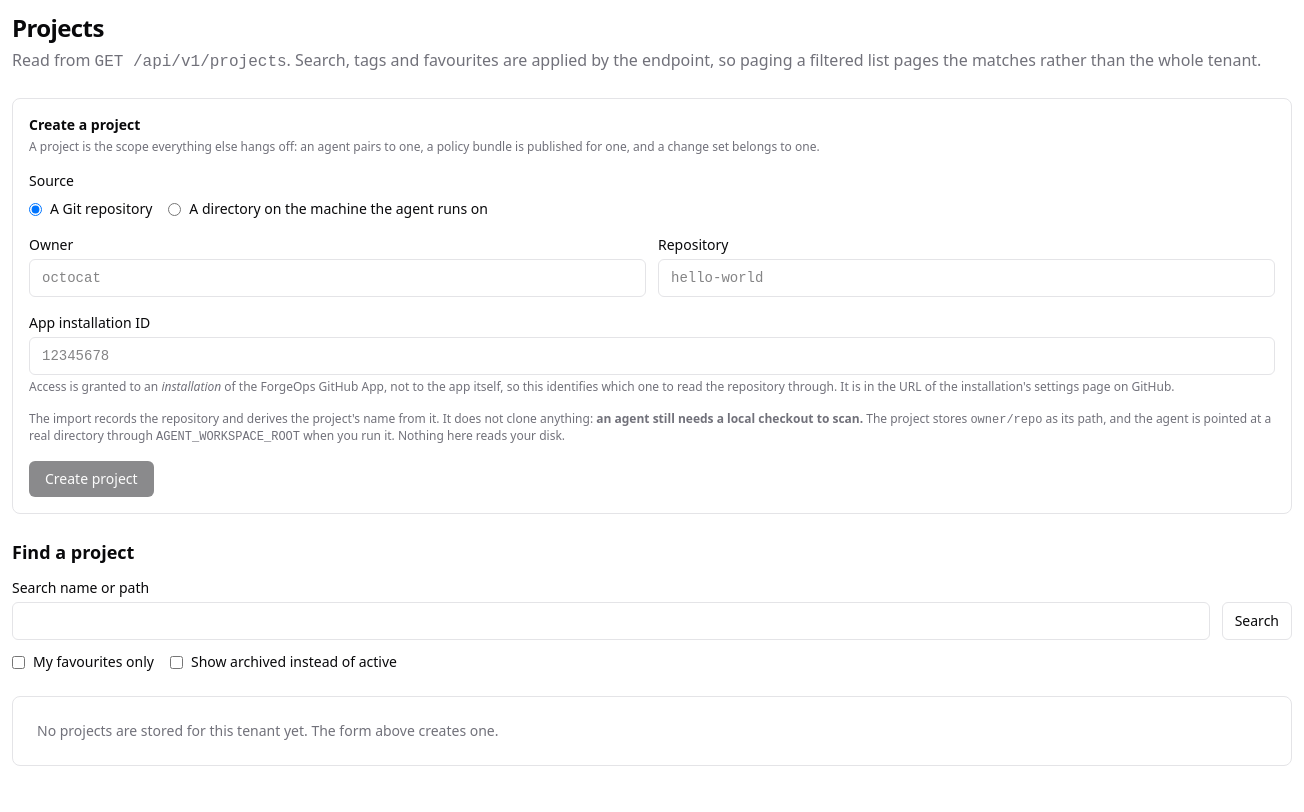
Test case: creating a project › renders a refusal from the server rather than claiming success
The width and height of the screenshot is (1304, 812).
Click the radio button labelled "A directory on the machine the agent runs on" at (175, 209), box [168,202,181,216]
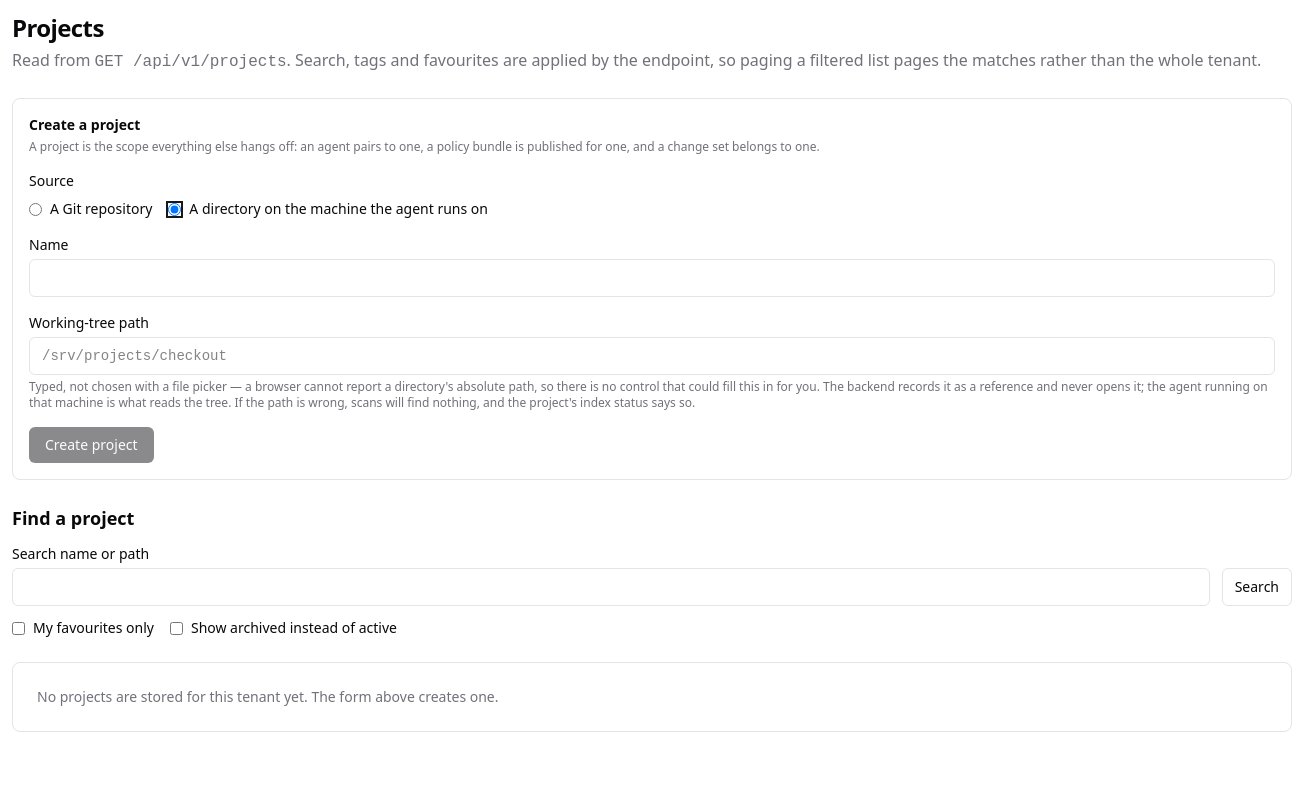
Type "X" into the field labelled "Name" at (652, 278), box [29,259,1275,297]
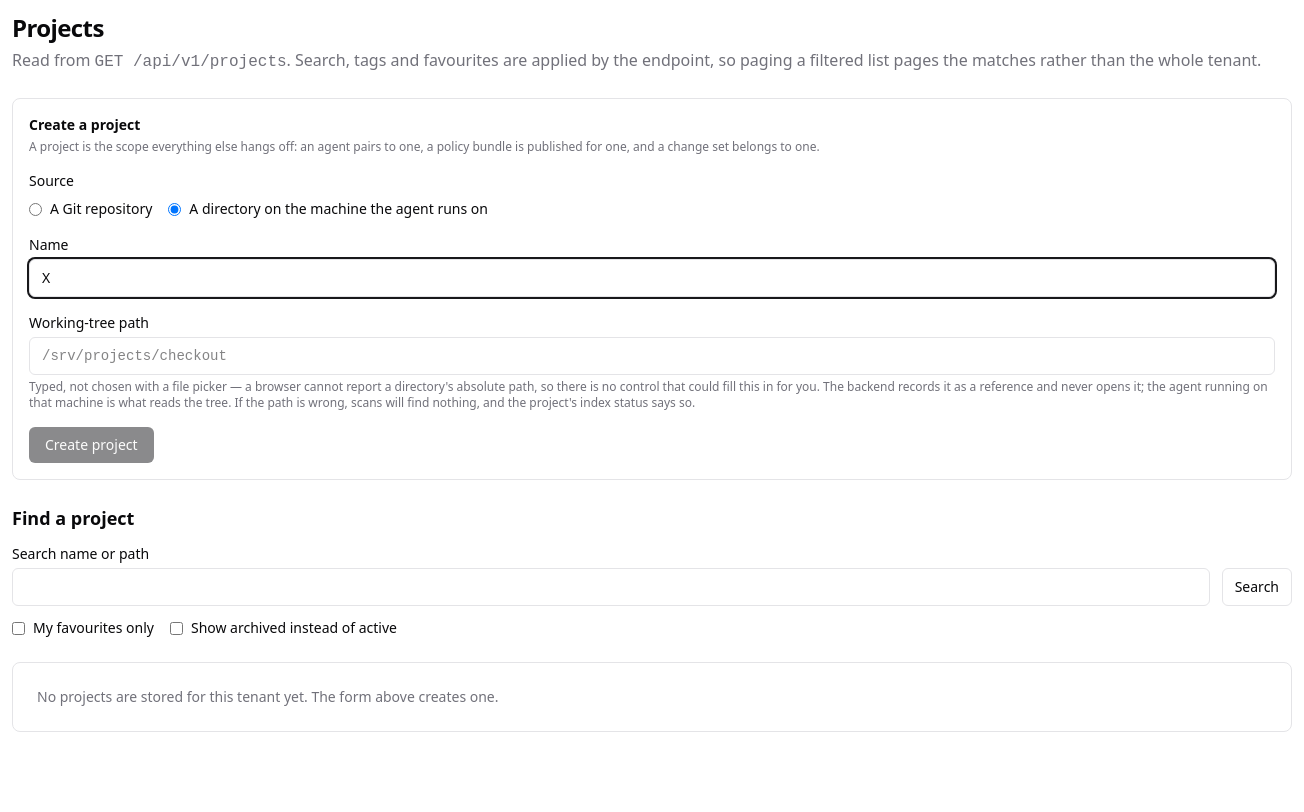
Type "/x" into the field labelled "Working-tree path" at (652, 356), box [29,337,1275,375]
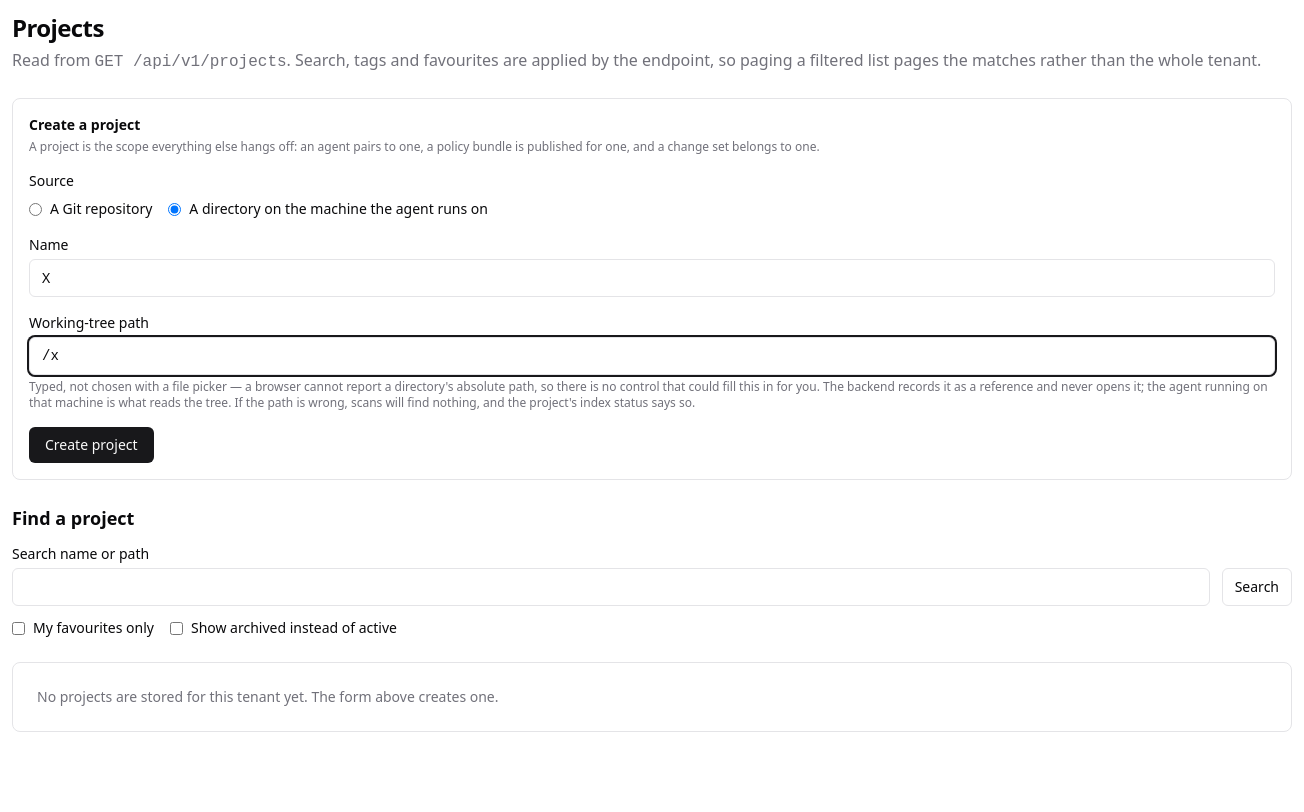
Click the button "Create project" at (91, 445), box [29,427,154,463]
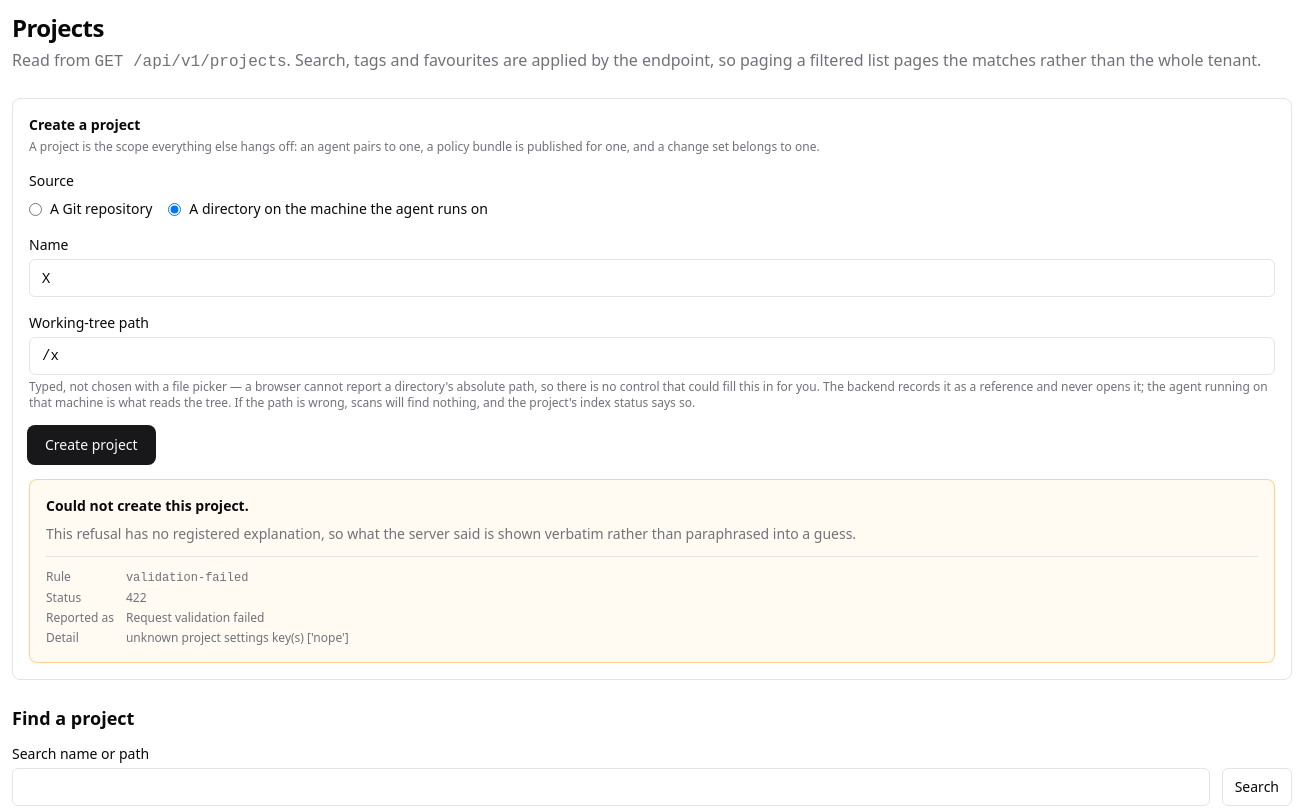
Expected: the message with test id "governance-refusal" shows "unknown project settings key", [126,629,349,646]
